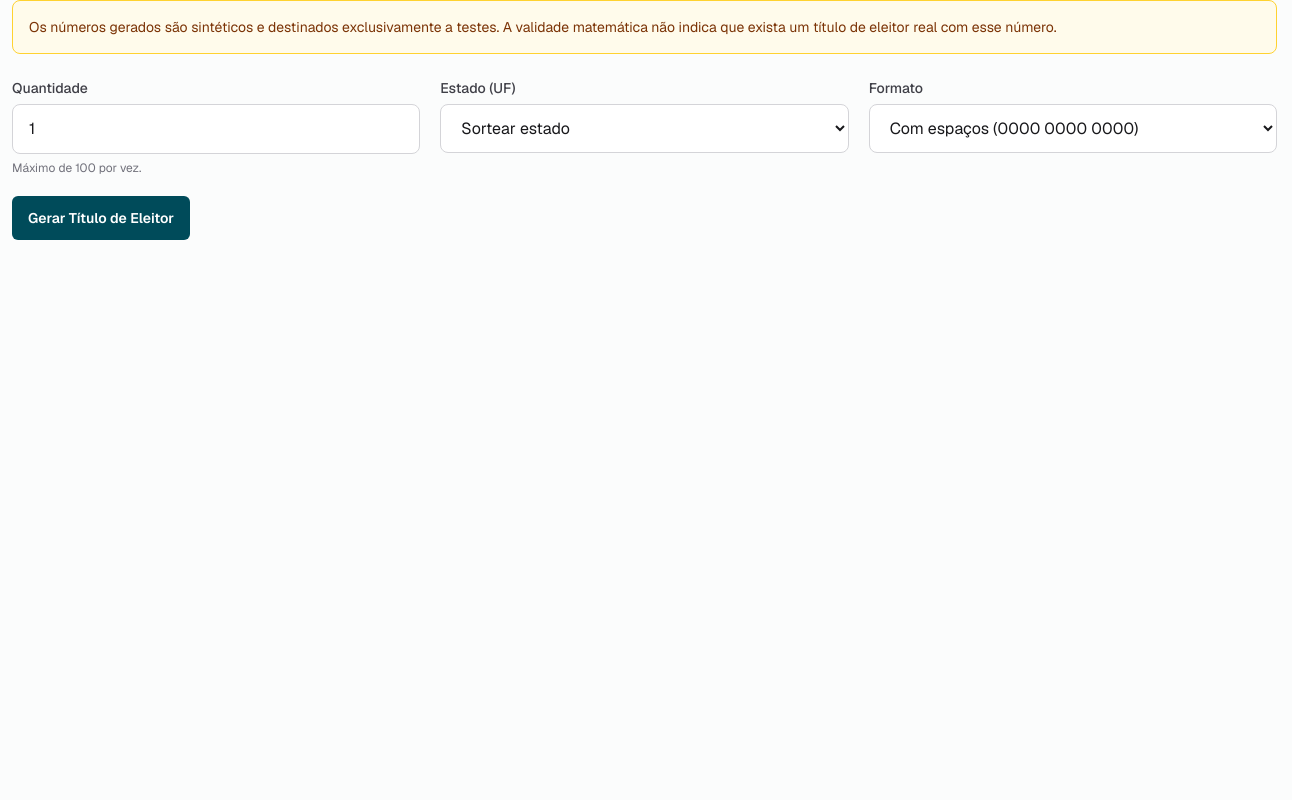
Test: VoterIdGeneratorTool › gera um lote e permite copiar todos
Type "5" into the field labelled "Quantidade" at [216, 129], box [12, 104, 420, 154]
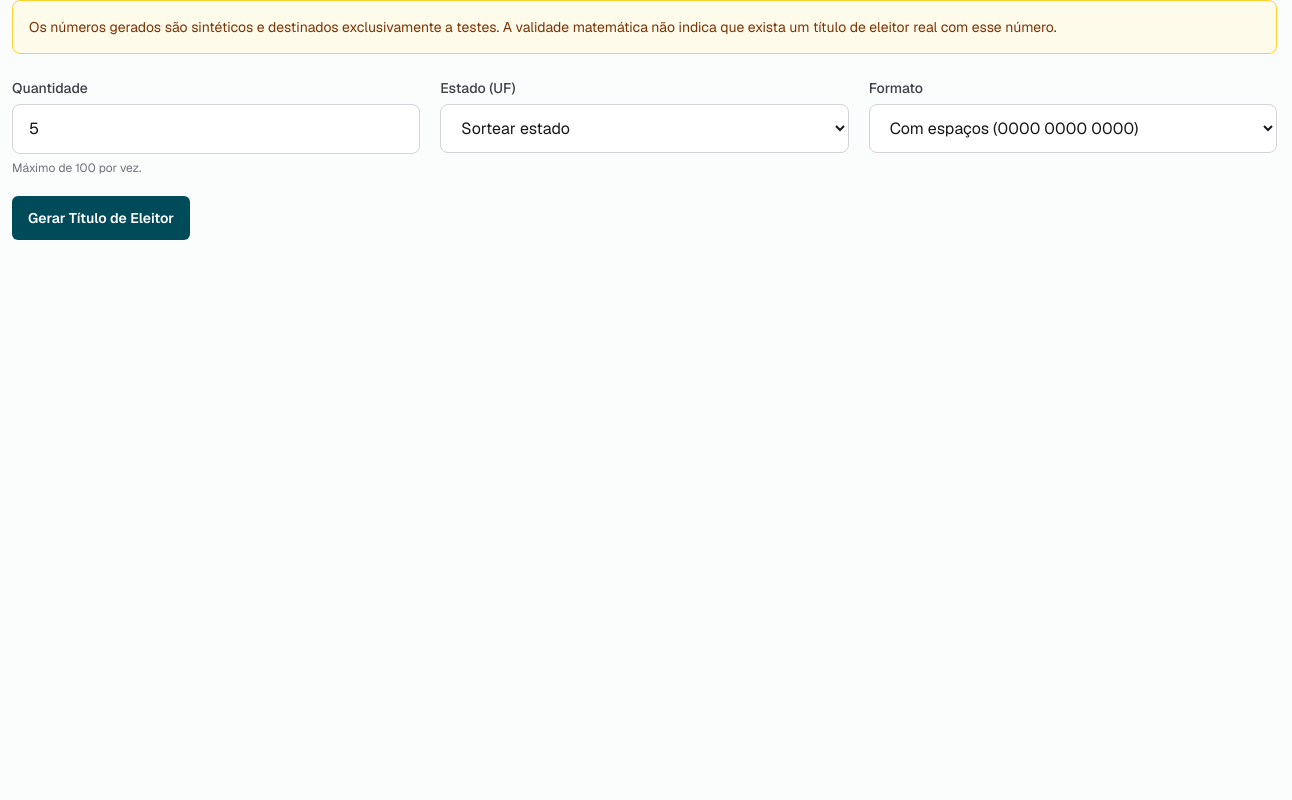
Click the button "Gerar Título de Eleitor" at [101, 218], box [12, 196, 190, 240]
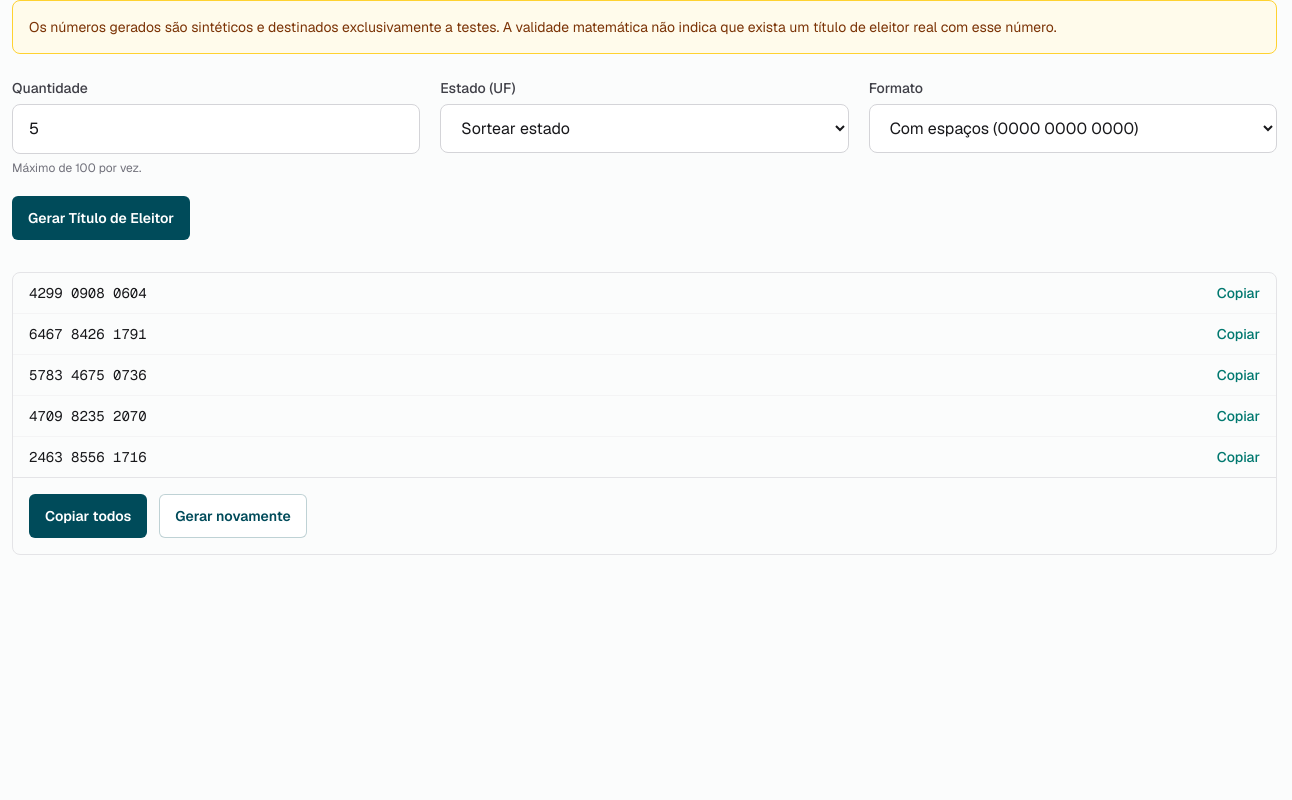
Result: the text "4299 0908 0604" is shown 5 times at [29, 283, 147, 303]; [29, 324, 147, 344]; [29, 365, 147, 385]; [29, 406, 147, 426]; [29, 447, 147, 467]
Click the button "Copiar todos" at [88, 516], box [29, 494, 147, 538]
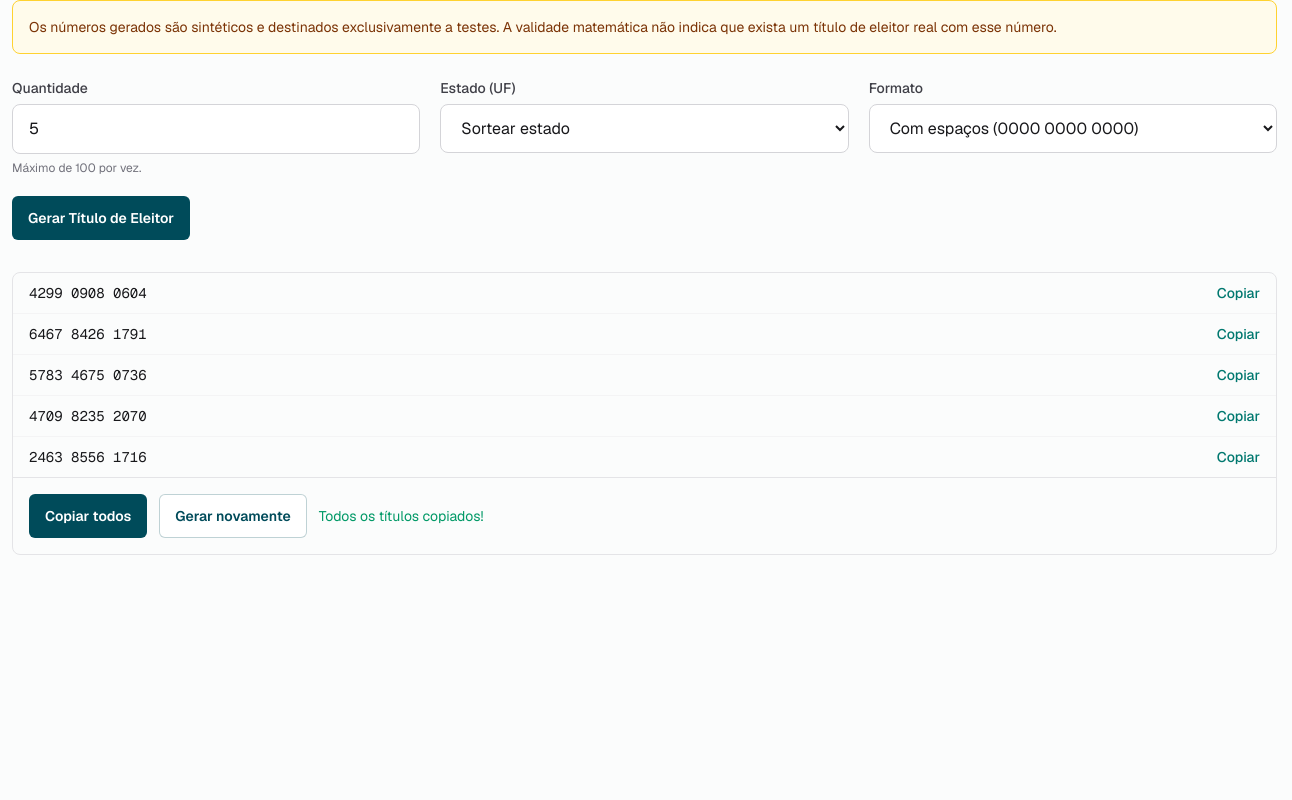
Result: the message reads "Todos os títulos copiados!" at [319, 507, 483, 525]
